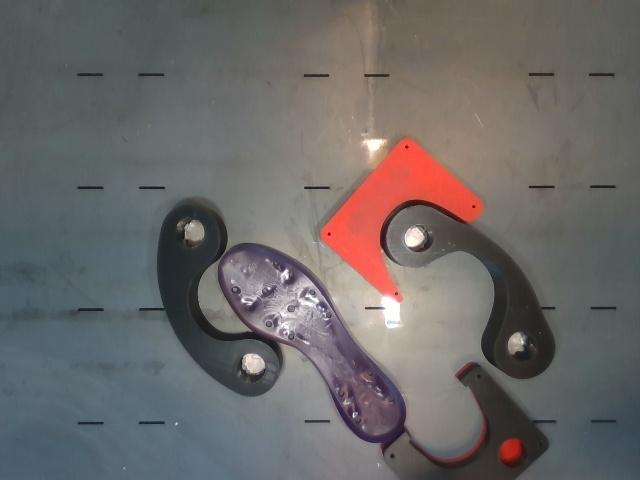shoes: (219, 243, 405, 442)
